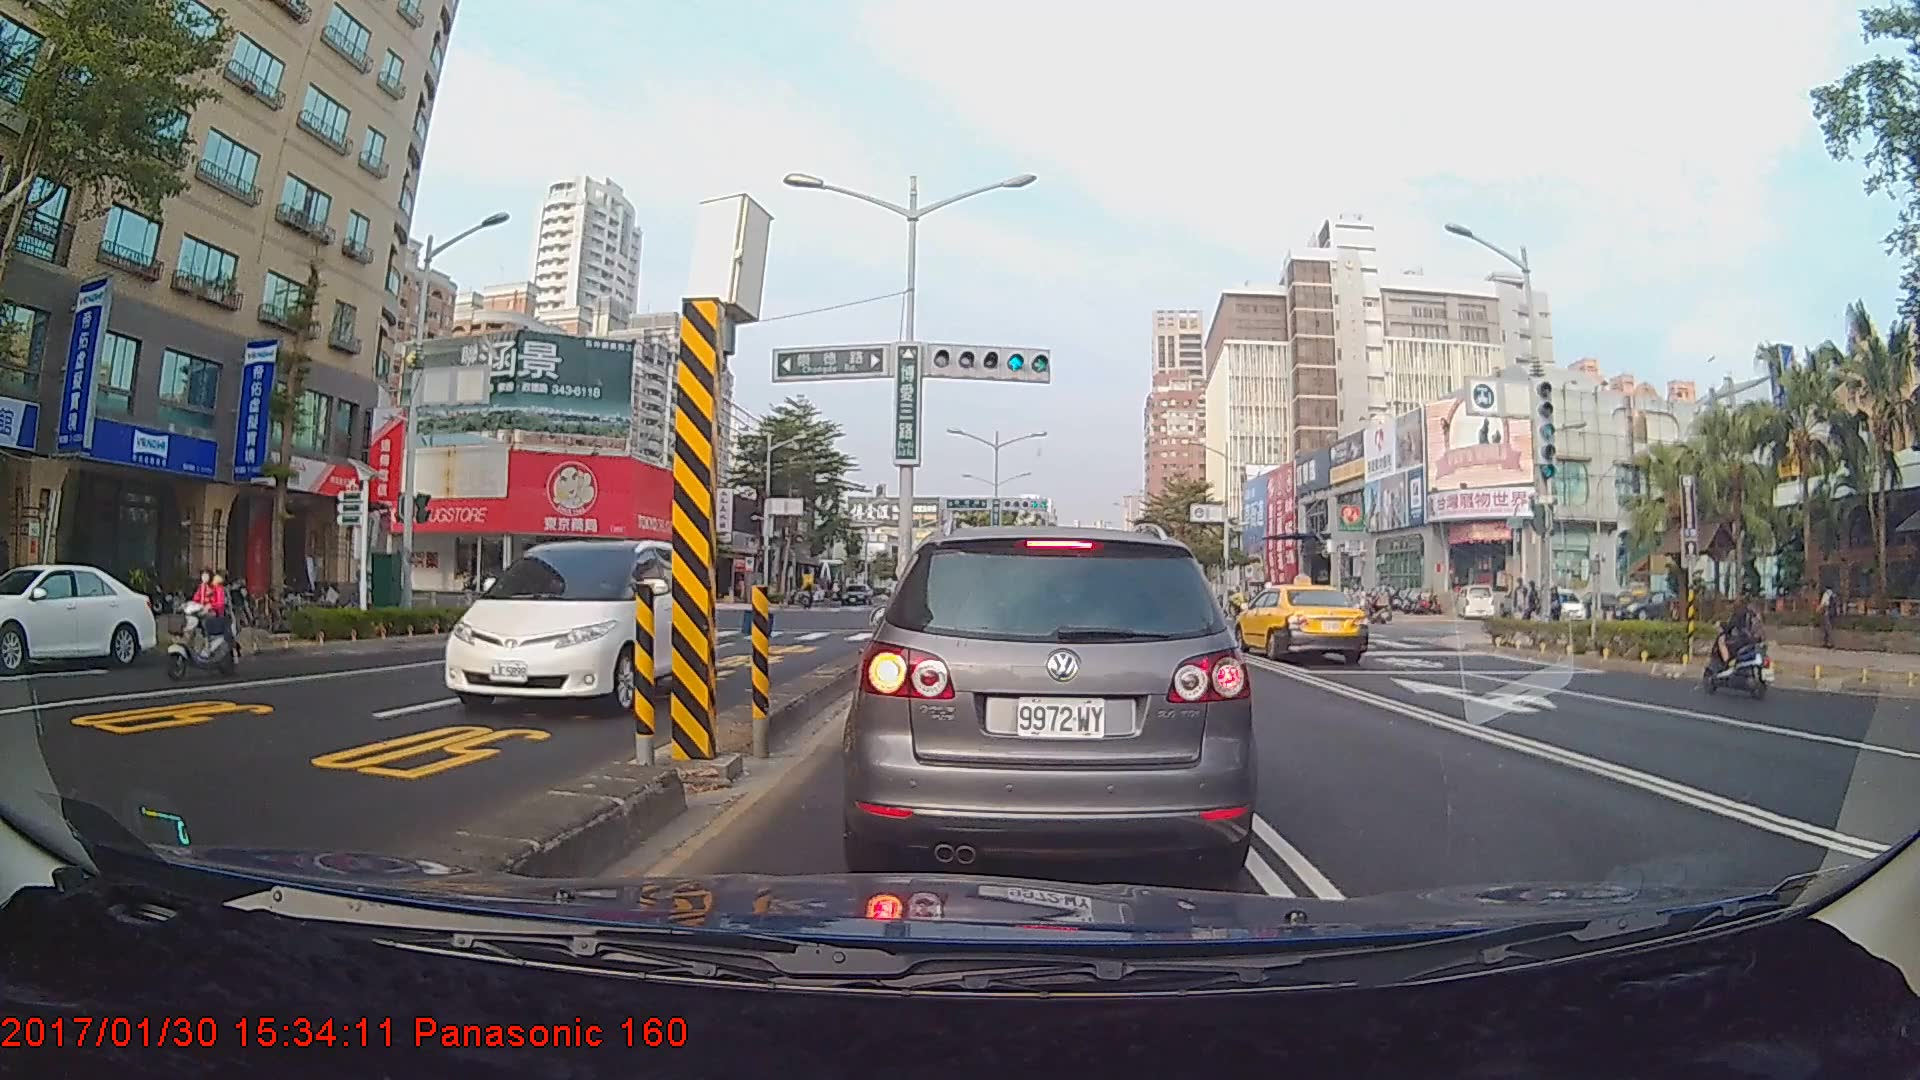pedestrian: (1817, 579, 1842, 649)
rider: (150, 559, 235, 687), (1697, 578, 1781, 704)
vehicle: (853, 518, 1254, 875), (441, 537, 718, 711), (0, 561, 158, 671), (1231, 582, 1370, 667)
